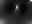person: (16, 4, 21, 16)
